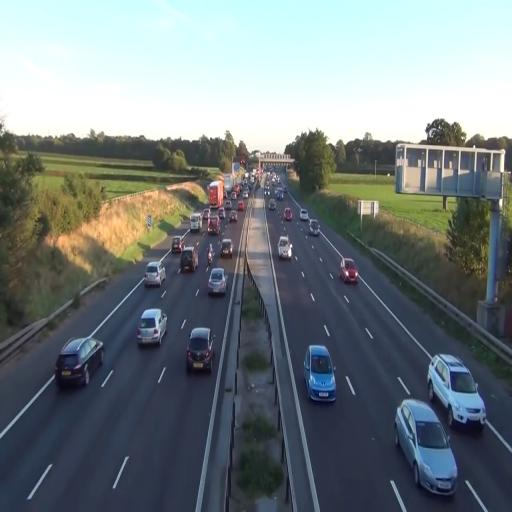vehicle: (395, 398, 458, 496), (427, 352, 487, 429), (55, 336, 105, 390), (304, 345, 336, 402), (186, 326, 214, 373), (136, 307, 168, 346), (207, 266, 227, 296), (144, 262, 164, 288), (340, 257, 358, 285), (180, 247, 198, 274), (277, 235, 294, 261), (208, 180, 222, 210), (220, 238, 234, 257), (309, 220, 320, 235), (284, 207, 293, 222), (299, 210, 310, 222)
